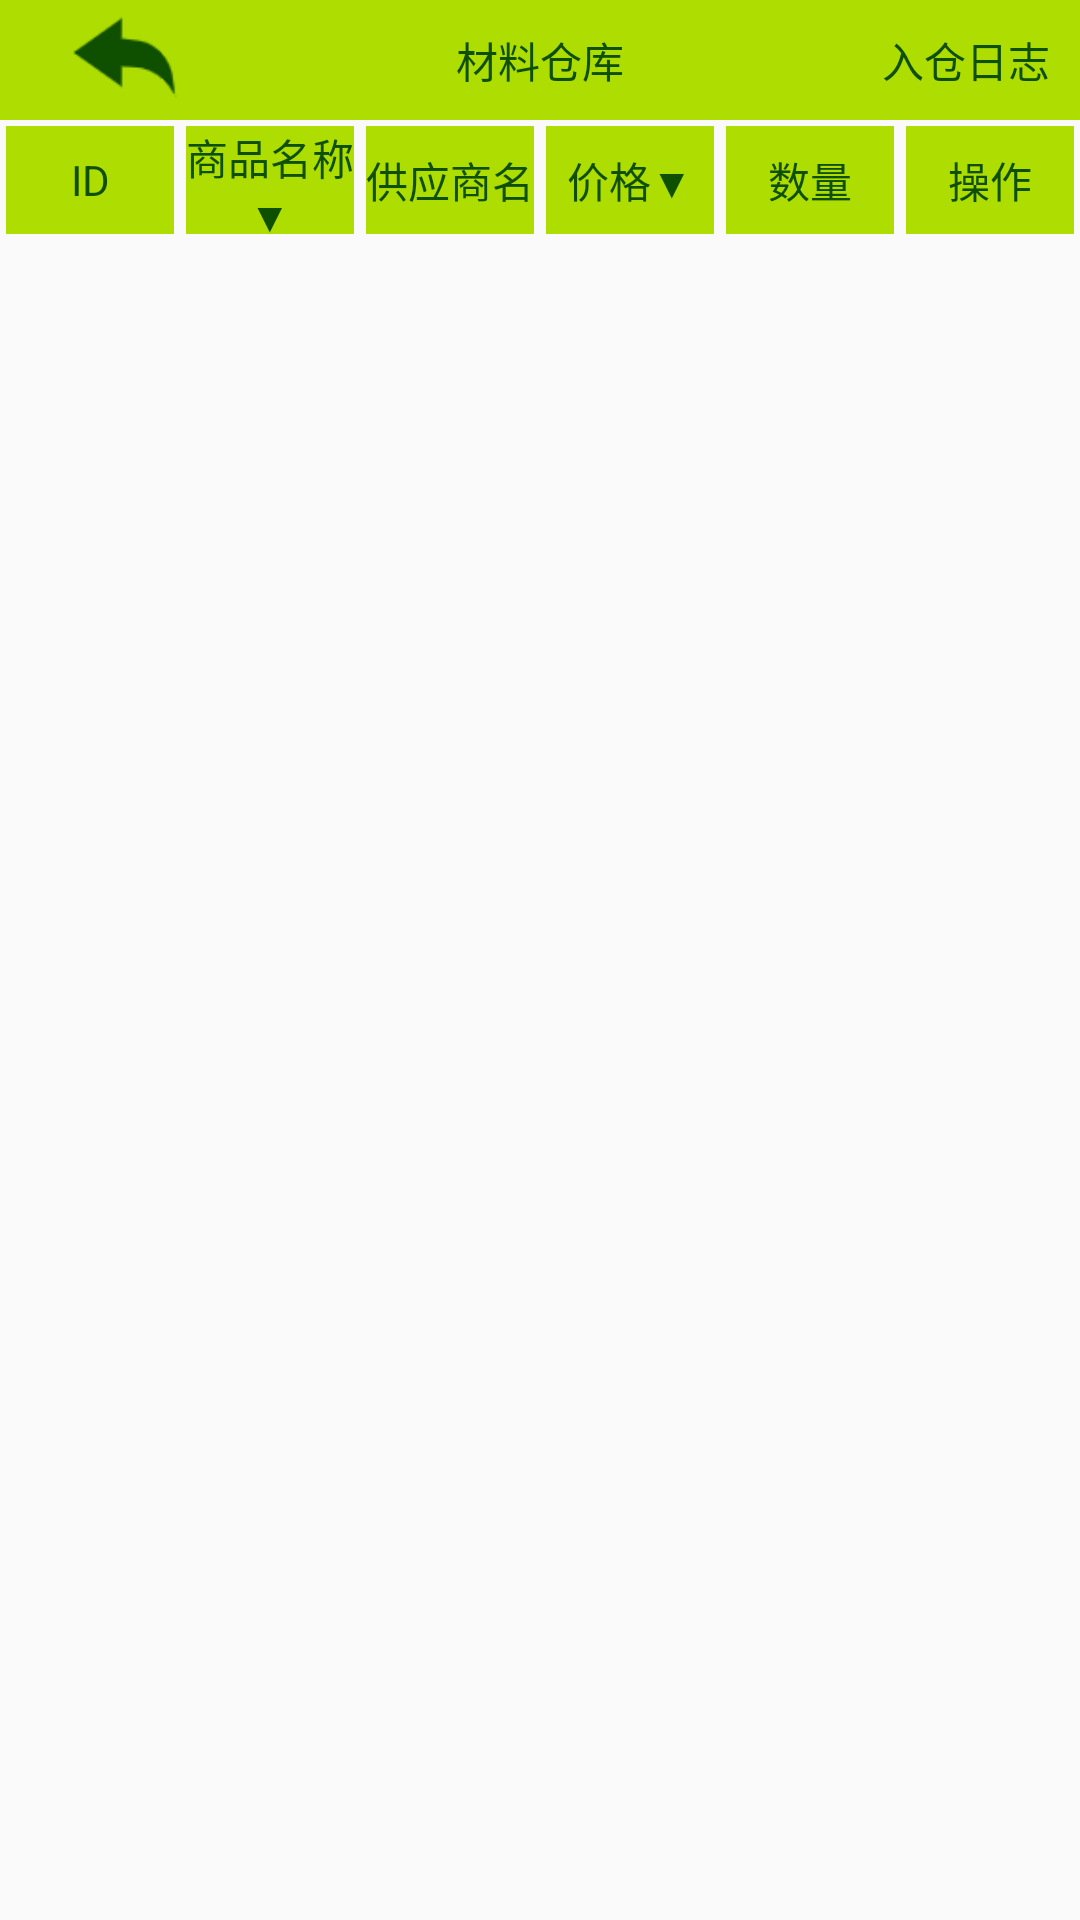

Screen size 1080w x 1920h. Icon name, then its center in pixels as (x,y):
return: (124,56)
